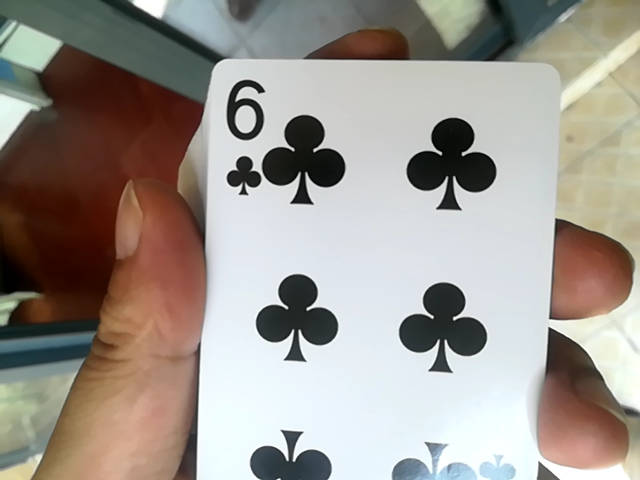mh 6: (194, 47, 558, 480)
